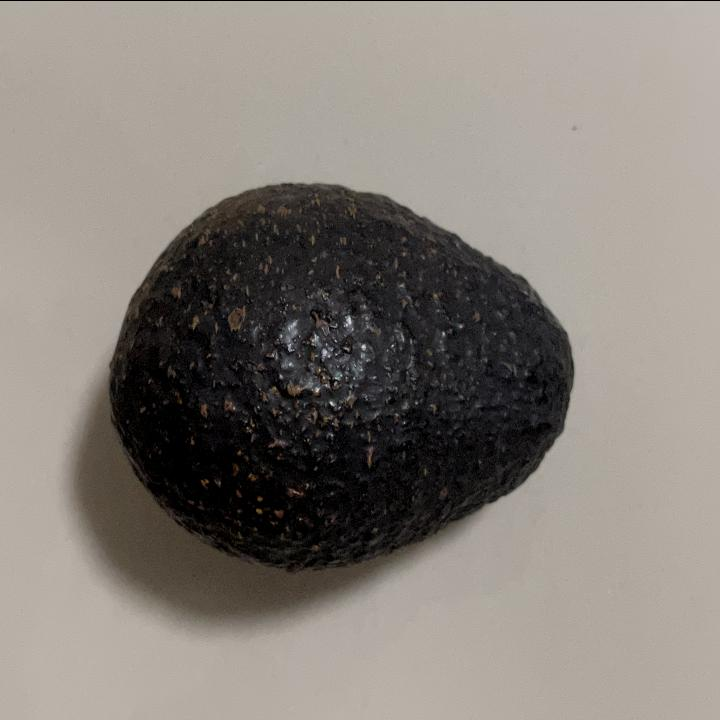Level2: (102, 174, 582, 584)
